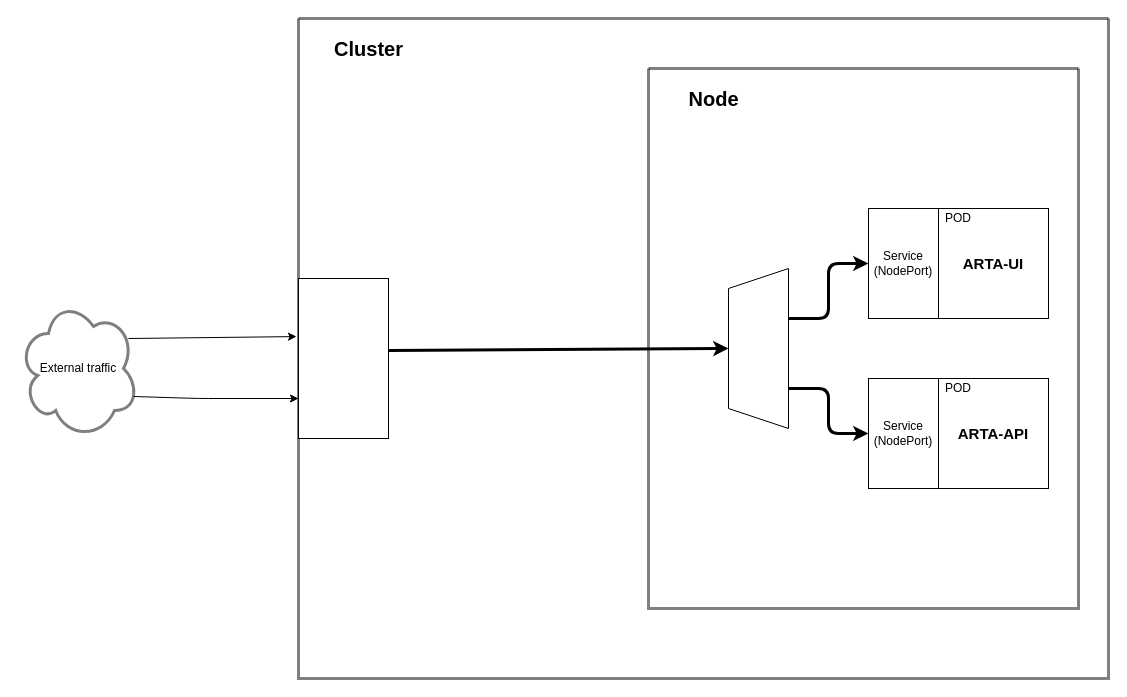
Some shapes in this 1127 by 697 pixel diagram are drawn without their labels. The shapes that lost their labels are listed below. From the top down, each one's box as (x1, y1, x2, y2) in pixels, then its label:
(298, 278, 388, 438): Loadbalancer
(728, 268, 788, 428): Traefik Ingress
